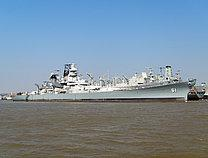MIL_Ship: (16, 62, 196, 103)
